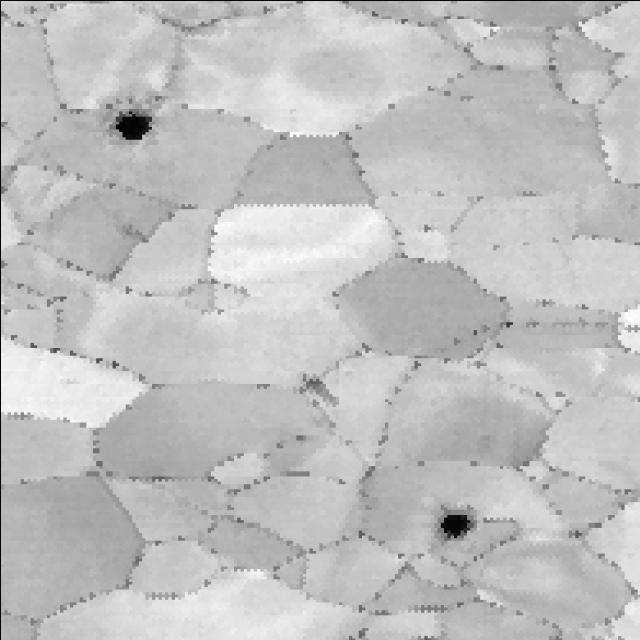good_void: (406, 497, 508, 540), (94, 108, 158, 156), (297, 371, 341, 406)
